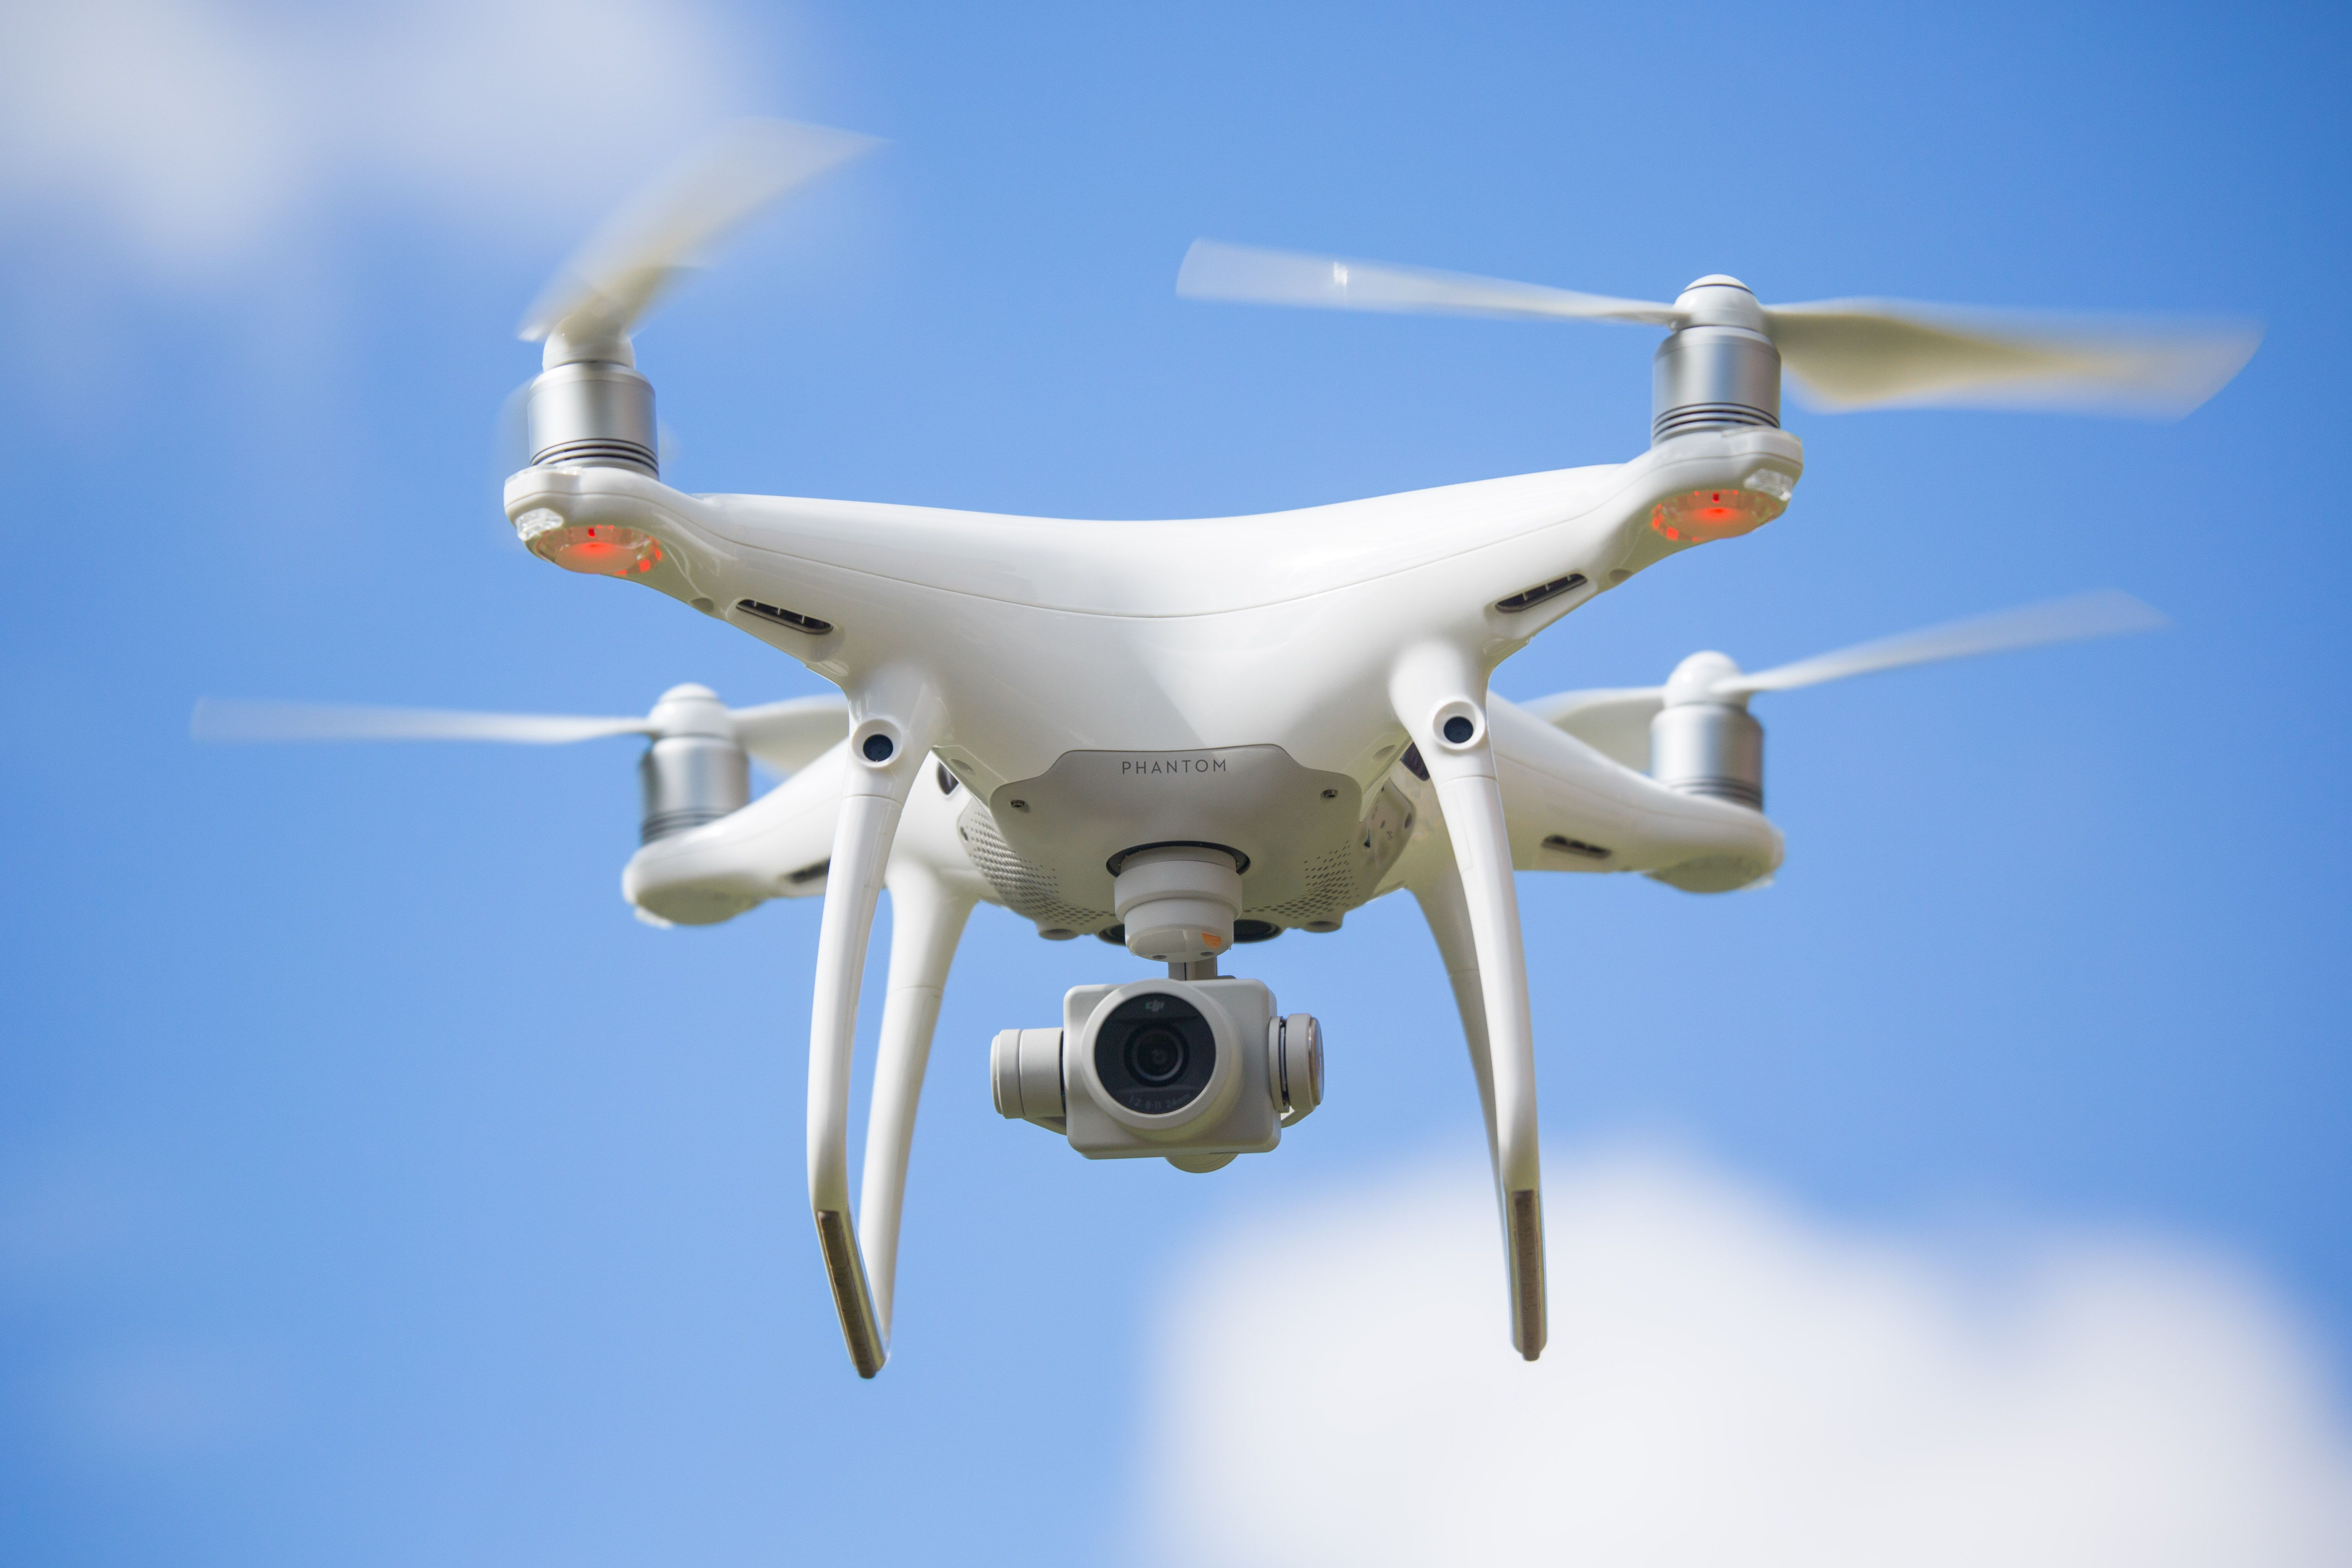drone: (185, 107, 2268, 1388)
